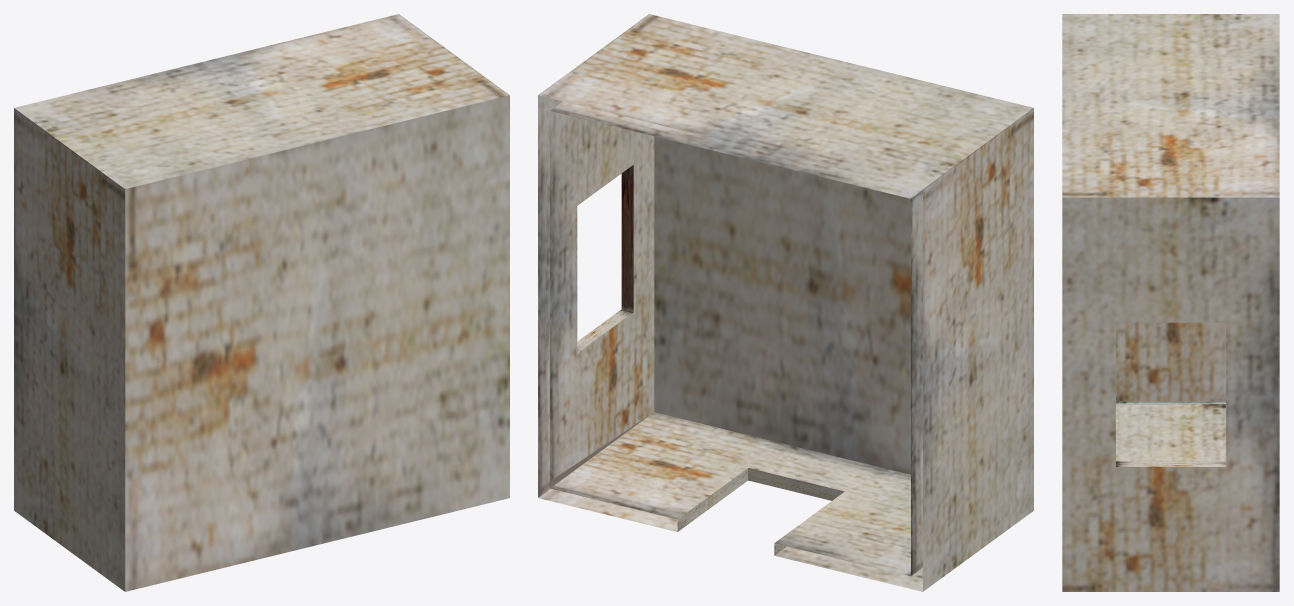
Rendered from 4x4S_EWindow_wtf.obj.
The picture shows the model from 3 angles, left to right: view 1: azimuth 30°, elevation 25°; view 2: azimuth 150°, elevation 25°; view 3: azimuth 270°, elevation 25°; orthographic projection. The views are drawn at different scales.
Parts seen in each view (by area): view 1: group2; view 2: group2; view 3: group2.
Boxes of the visible parts, box(x1,y1,x2,y2) form: group2: box(14, 14, 509, 591); group2: box(538, 14, 1033, 591); group2: box(1062, 14, 1279, 591).
Bounding box in the file's own units: 660 × 660 × 330.
